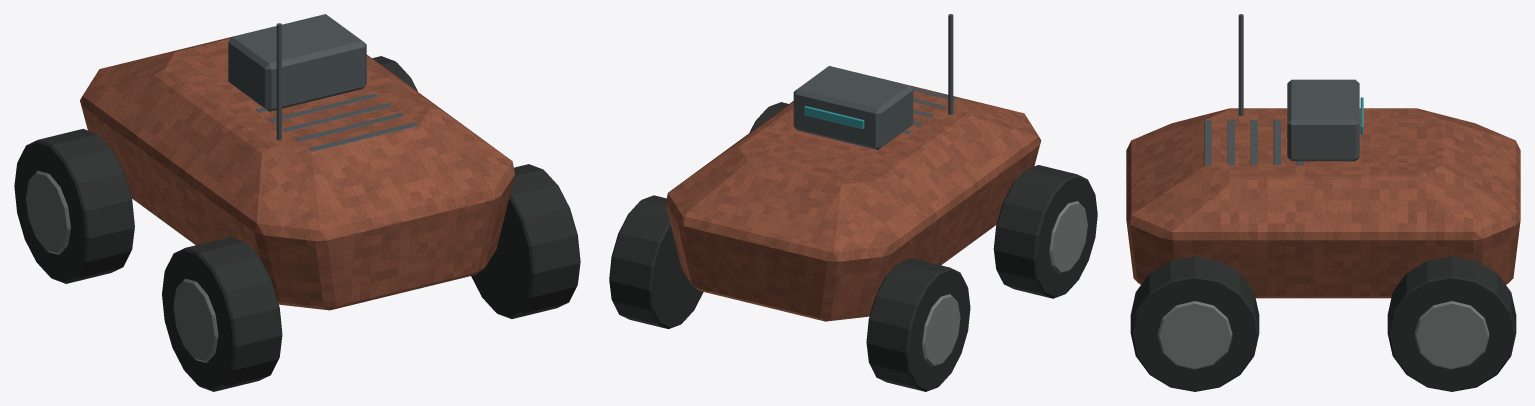
3 views of the same model, side by side, from view 1: azimuth 30°, elevation 25°; view 2: azimuth 150°, elevation 25°; view 3: azimuth 270°, elevation 25° (orthographic). The views are drawn at different scales.
Parts seen in each view (by area): view 1: ST2-E01_Mesh, Wheel_L_Rear_Mesh, Wheel_L_Front_Mesh, Wheel_R_Rear_Mesh, SensorYaw_Mesh; view 2: ST2-E01_Mesh, Wheel_L_Rear_Mesh, Wheel_L_Front_Mesh, Wheel_R_Front_Mesh, SensorYaw_Mesh; view 3: ST2-E01_Mesh, Wheel_R_Front_Mesh, Wheel_R_Rear_Mesh, SensorYaw_Mesh.
Part boxes in pixels (x1,y1,x2,y2): ST2-E01_Mesh: (80,23,514,310); Wheel_L_Rear_Mesh: (162,236,282,391); Wheel_L_Front_Mesh: (14,129,134,283); Wheel_R_Rear_Mesh: (471,164,580,318); SensorYaw_Mesh: (228,14,366,111); ST2-E01_Mesh: (665,14,1041,321); Wheel_L_Rear_Mesh: (993,165,1097,298); Wheel_L_Front_Mesh: (866,258,970,391); Wheel_R_Front_Mesh: (609,195,703,328); SensorYaw_Mesh: (793,66,913,149); ST2-E01_Mesh: (1126,14,1520,298); Wheel_R_Front_Mesh: (1387,256,1516,391); Wheel_R_Rear_Mesh: (1130,256,1259,391); SensorYaw_Mesh: (1287,79,1363,161).
Bounding box in the file's own units: 2.17 × 1.85 × 2.39.
6 materials, 1 textured.
